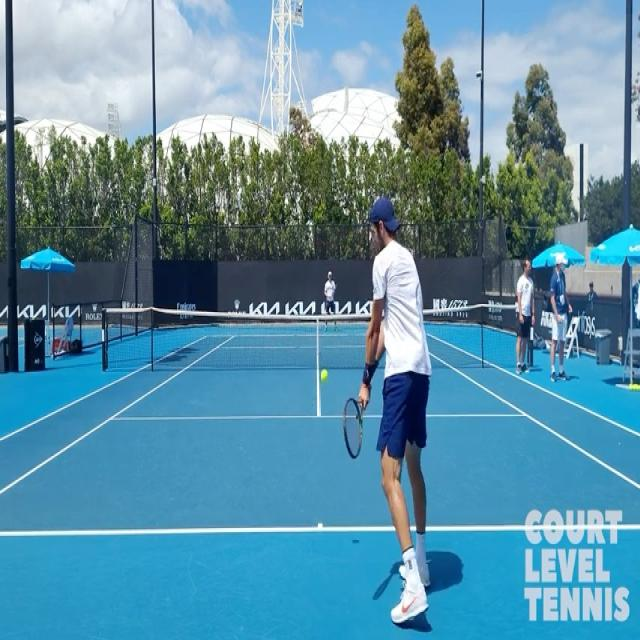backhand-stroke: (340, 194, 434, 640)
